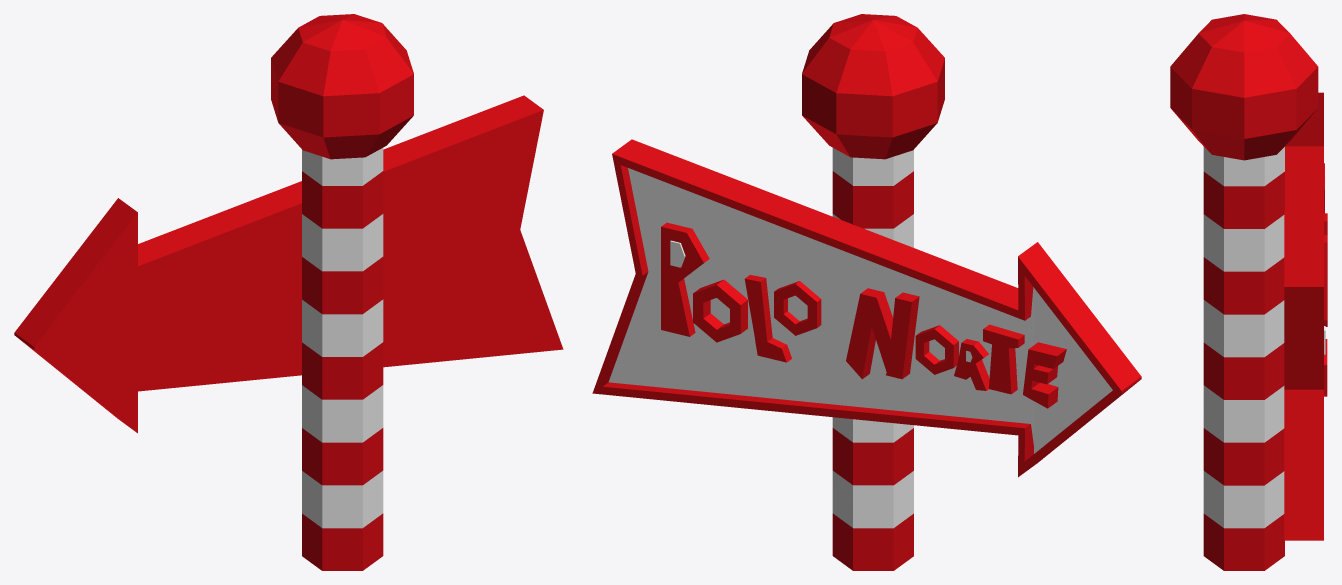
Rendered from PacaPoloNorte.fbx.
The picture shows the model from 3 angles, left to right: view 1: azimuth 30°, elevation 25°; view 2: azimuth 150°, elevation 25°; view 3: azimuth 270°, elevation 25°; orthographic projection.
Parts seen in each view (by area): view 1: Cube, Cylinder, Sphere; view 2: Cube, Cube.001, Cylinder, Sphere, Plane; view 3: Cylinder, Sphere, Cube, Cube.001.
Part boxes in pixels (x1,y1,x2,y2): Cube: (14, 95, 563, 433); Cylinder: (302, 148, 383, 570); Sphere: (271, 14, 413, 159); Cube: (592, 139, 1141, 477); Cube.001: (661, 222, 1066, 408); Cylinder: (832, 148, 913, 570); Sphere: (802, 14, 944, 159); Plane: (1034, 288, 1112, 453); Cylinder: (1203, 147, 1284, 570); Sphere: (1170, 14, 1318, 160); Cube: (1284, 92, 1323, 540); Cube.001: (1324, 163, 1327, 396).
Bounding box in the file's own units: 225 × 218 × 58.07.
